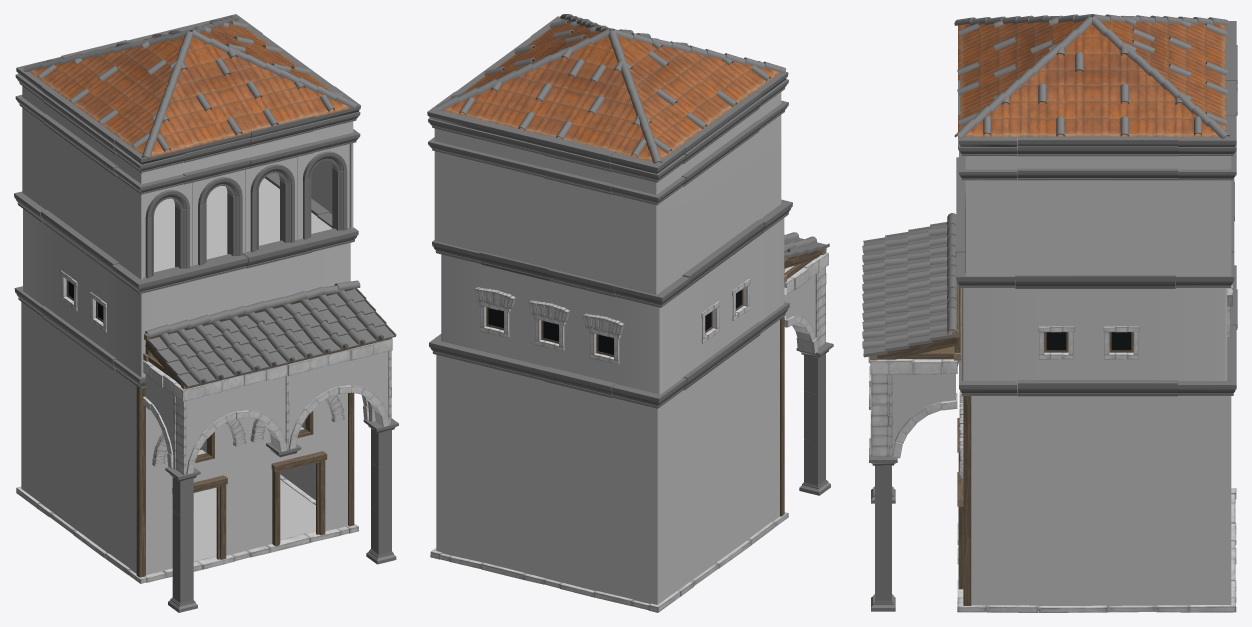
The model's file is SM_insulae_building_07.fbx.
3 renders of one model, left to right at view 1: azimuth 30°, elevation 25°; view 2: azimuth 150°, elevation 25°; view 3: azimuth 270°, elevation 25°, orthographic. The views are drawn at different scales.
Parts seen in each view (by area): view 1: Box302; view 2: Box302; view 3: Box302.
Boxes of the visible parts, x1,y1,x2,y2 form: Box302: (14, 14, 398, 612); Box302: (427, 14, 833, 612); Box302: (862, 14, 1237, 612).
Size of the model in its own units: 310 by 643 by 406.
